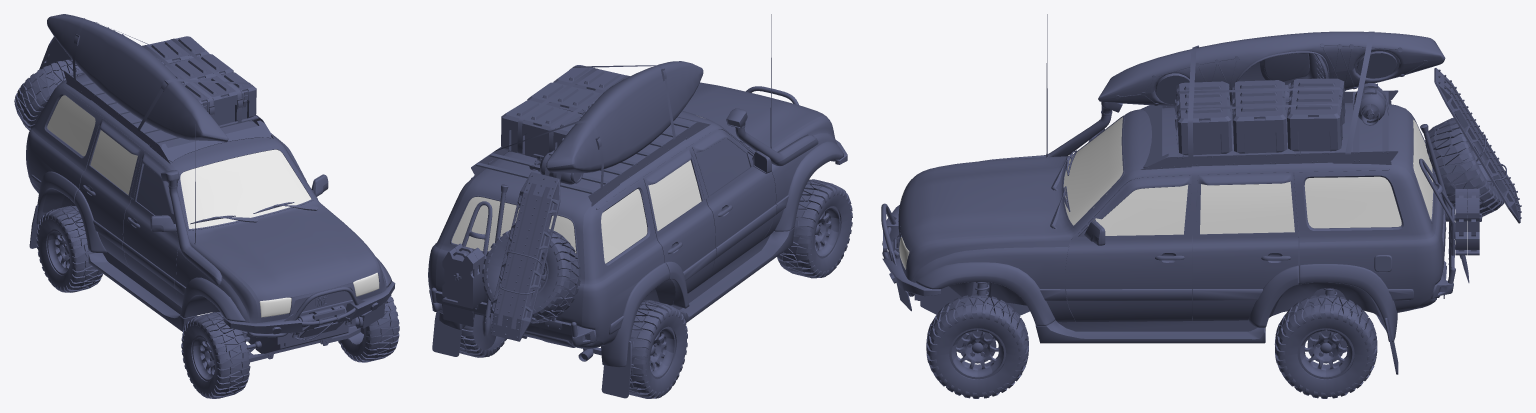
3 views of the same model, side by side, from view 1: azimuth 30°, elevation 25°; view 2: azimuth 150°, elevation 25°; view 3: azimuth 270°, elevation 25° (orthographic). The views are drawn at different scales.
Parts seen in each view (by area): view 1: Car, Glass 1, Glass 2; view 2: Car, Glass 2, Glass 1; view 3: Car, Glass 2, Glass 1.
Part boxes in pixels (x1,y1,x2,y2): Car: [14, 14, 399, 398]; Glass 1: [136, 149, 379, 317]; Glass 2: [47, 95, 137, 194]; Car: [428, 14, 852, 398]; Glass 2: [451, 160, 701, 263]; Glass 1: [697, 117, 750, 194]; Car: [881, 14, 1521, 398]; Glass 2: [1200, 119, 1433, 234]; Glass 1: [899, 117, 1188, 269].
Bounding box in the file's own units: 189 × 247 × 483.
